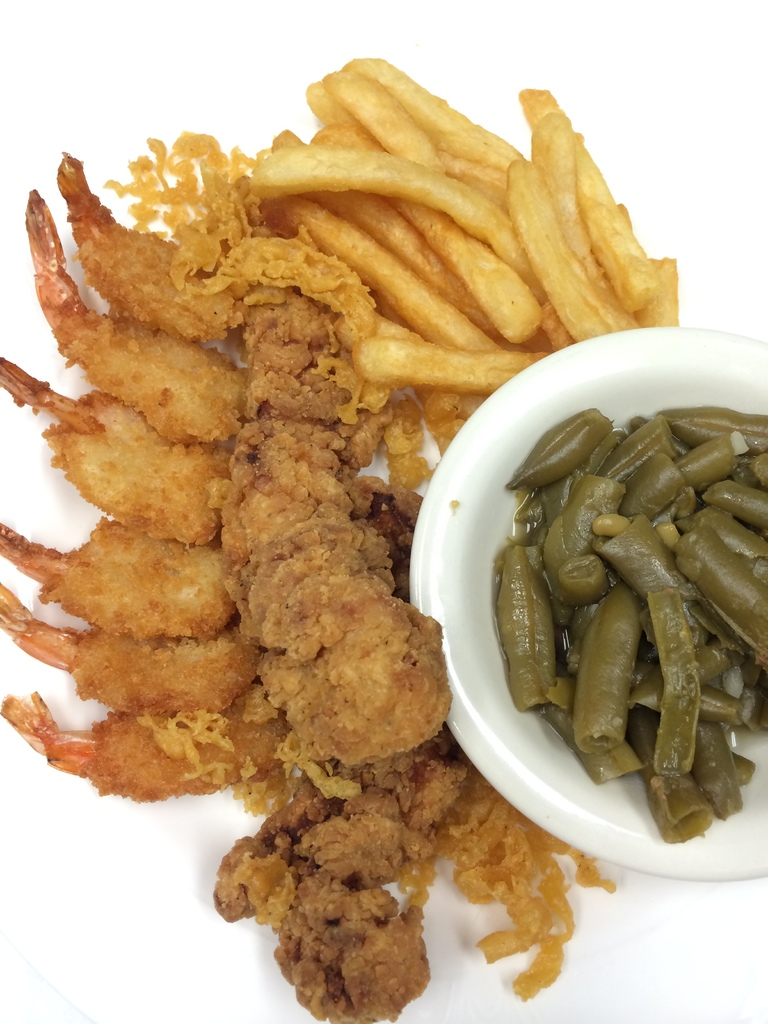French fries: (231, 67, 671, 419)
